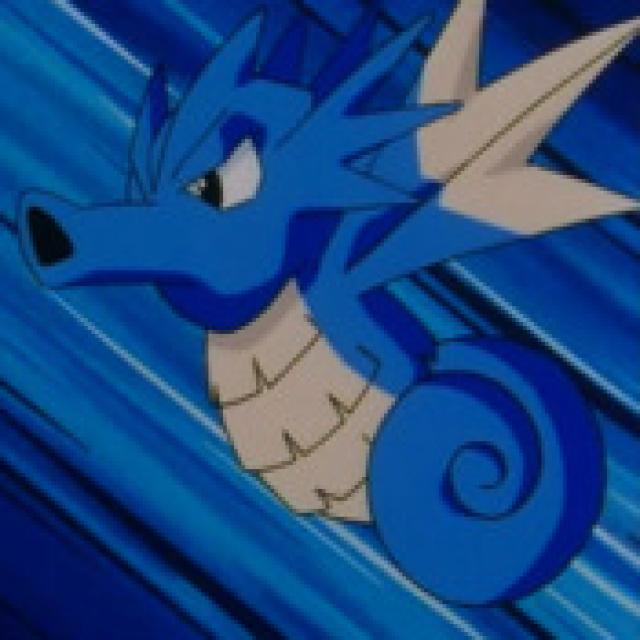Seadra: (24, 11, 603, 595)
